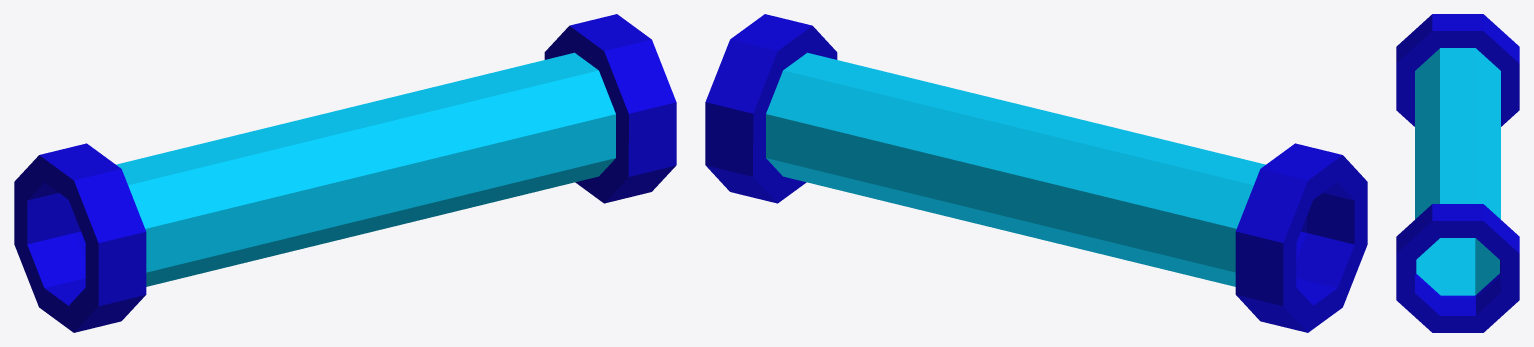
The model's file is pipes 4.0.fbx.
3 renders of one model, left to right at view 1: azimuth 30°, elevation 25°; view 2: azimuth 150°, elevation 25°; view 3: azimuth 270°, elevation 25°, orthographic. The views are drawn at different scales.
Parts seen in each view (by area): view 1: pipe 5; view 2: pipe 5; view 3: pipe 5.
Boxes of the visible parts, box(x1,y1,x2,y2) form: pipe 5: box(14, 14, 676, 332); pipe 5: box(705, 14, 1367, 332); pipe 5: box(1396, 14, 1519, 332).
Bounding box in the file's own units: 136 × 34.27 × 34.27.
